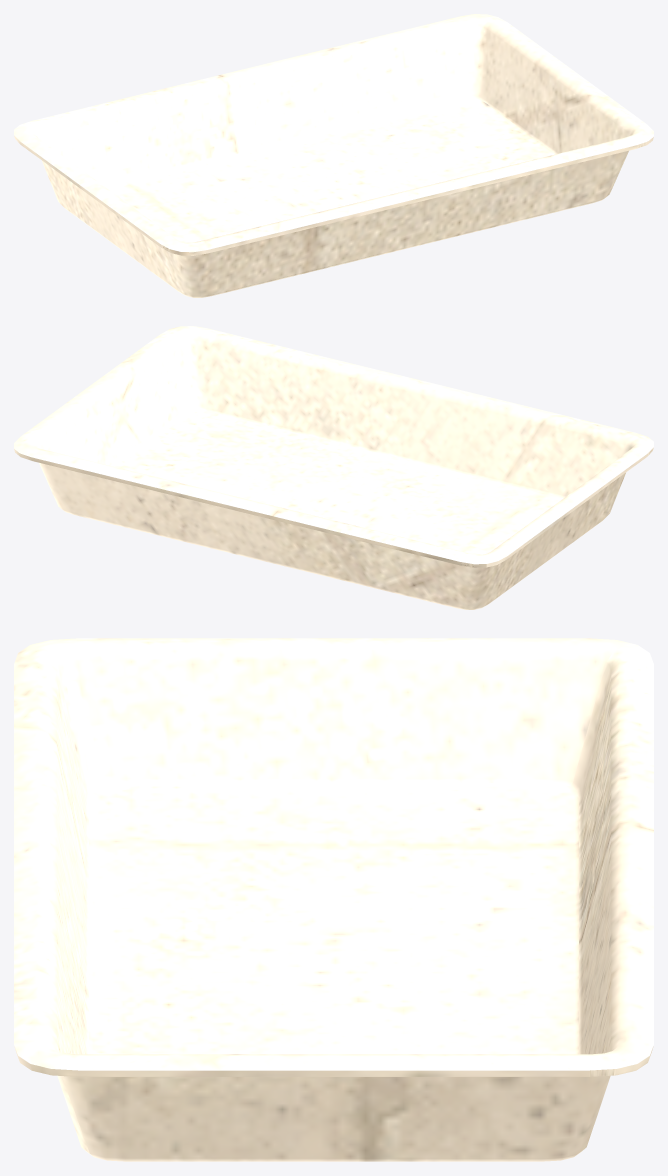
File: SM_OPR_Tray_01.fbx
3 renders of one model, top to bottom at view 1: azimuth 30°, elevation 25°; view 2: azimuth 150°, elevation 25°; view 3: azimuth 270°, elevation 25°, orthographic. The views are drawn at different scales.
Parts seen in each view (by area): view 1: SM_OPR_Tray_01_LOD0; view 2: SM_OPR_Tray_01_LOD0; view 3: SM_OPR_Tray_01_LOD0.
Boxes of the visible parts, x1,y1,x2,y2 form: SM_OPR_Tray_01_LOD0: (14,14,653,297); SM_OPR_Tray_01_LOD0: (14,326,653,609); SM_OPR_Tray_01_LOD0: (14,638,653,1161).
Bounding box in the file's own units: 30.25 × 18.93 × 4.18.
Materials: 1 (1 with a texture image).
